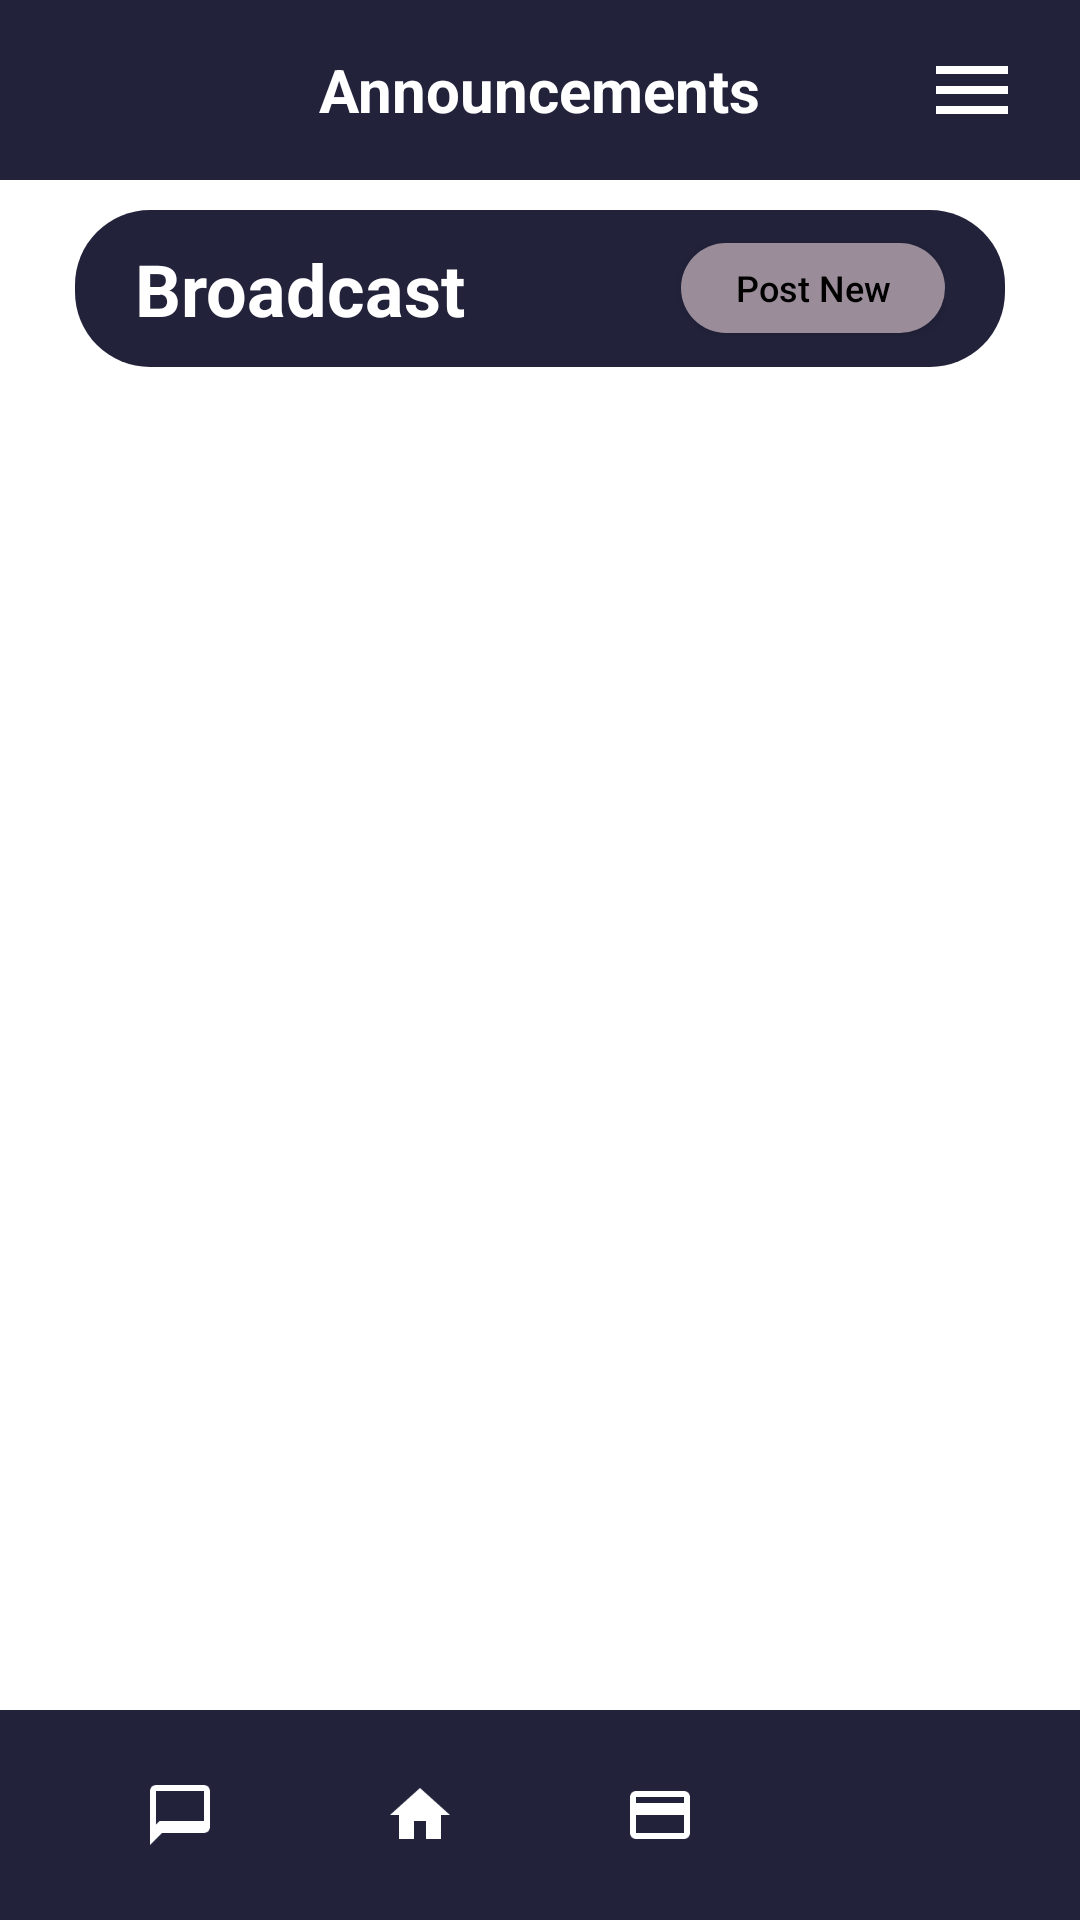

Where icons sit on this 1080×1920 app screen, as bbox(x1, y1, x2, y2):
Home: bbox(390, 1788, 450, 1839)
menu: bbox(936, 66, 1008, 114)
Messages: bbox(150, 1785, 210, 1845)
Payments: bbox(630, 1791, 690, 1839)
